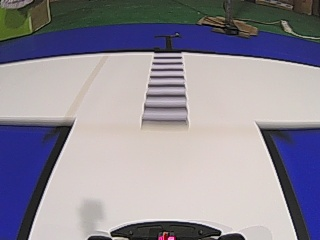CrossWalk: (131, 51, 197, 131)
